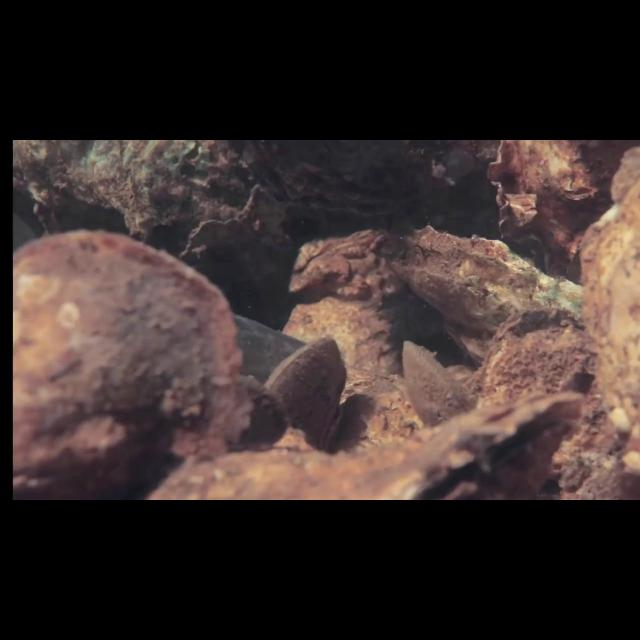Oyster-Closed: (13, 223, 265, 494), (156, 377, 595, 498), (366, 218, 595, 364), (230, 141, 443, 226), (464, 308, 597, 400), (179, 185, 298, 269), (261, 332, 352, 437), (401, 340, 476, 428)
